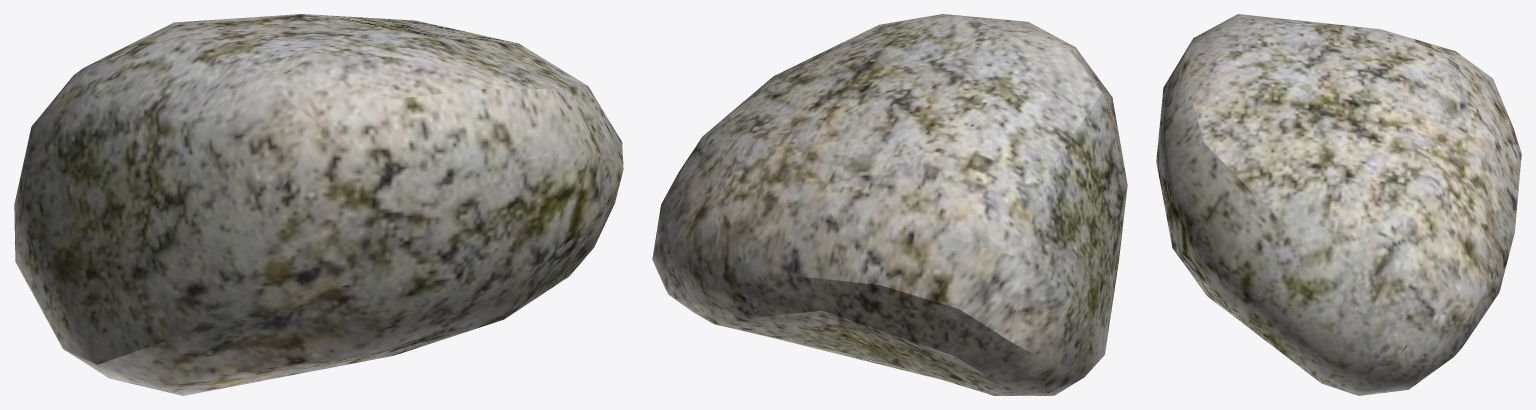
File: rock055.glb
The picture shows the model from 3 angles, left to right: view 1: azimuth 30°, elevation 25°; view 2: azimuth 150°, elevation 25°; view 3: azimuth 270°, elevation 25°; orthographic projection. The views are drawn at different scales.
Parts seen in each view (by area): view 1: rock055; view 2: rock055; view 3: rock055.
Part boxes in pixels (x1=…): rock055: x1=14, y1=14, x2=623, y2=395; rock055: x1=652, y1=14, x2=1127, y2=395; rock055: x1=1156, y1=14, x2=1521, y2=395.
Bounding box in the file's own units: 0.9754 × 0.6459 × 0.7718.
Materials: 1 (1 with a texture image).
